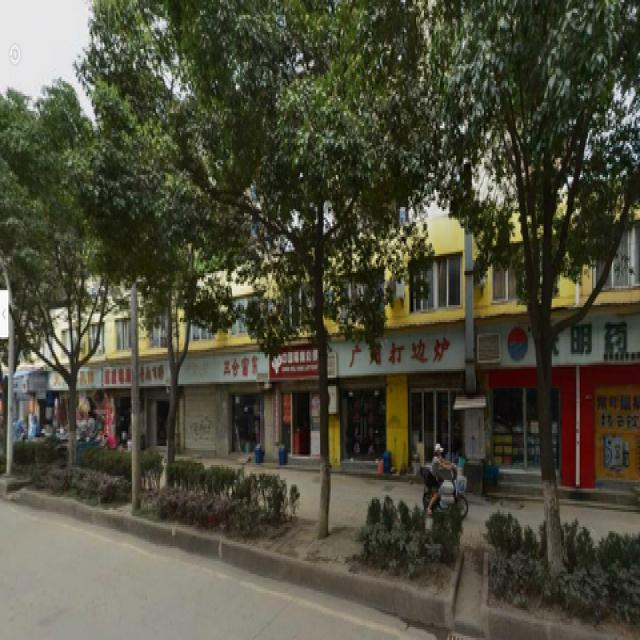cinn: (468, 13, 623, 561), (242, 15, 398, 527), (99, 51, 216, 484), (4, 113, 88, 474)
